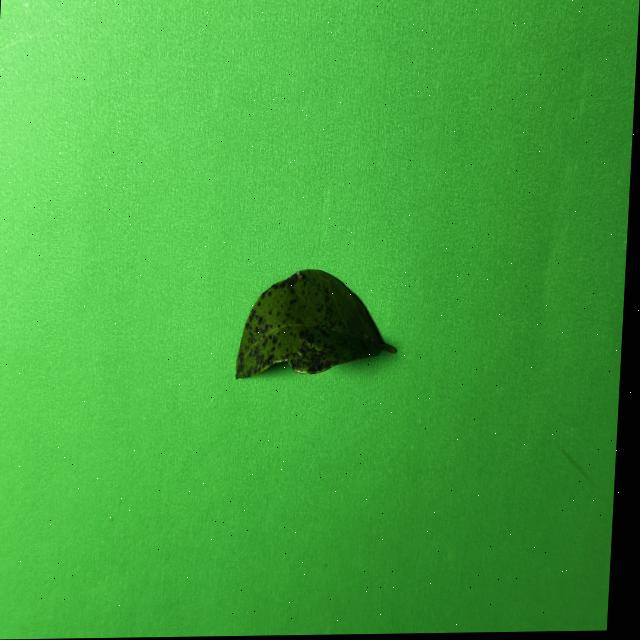sooty_mold: (235, 270, 395, 378)
